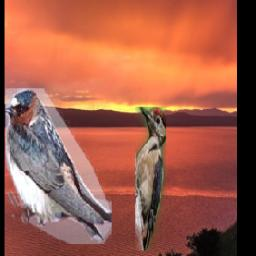Swallow: (6, 89, 113, 245)
Woodpecker: (135, 107, 166, 251)
